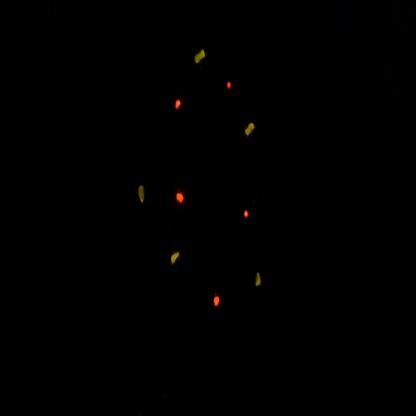PP: (246, 254, 272, 301), (162, 242, 187, 280), (239, 110, 262, 150), (191, 38, 212, 76), (135, 174, 150, 213)
PVC: (172, 177, 192, 216), (210, 279, 224, 323), (223, 70, 240, 104), (240, 196, 256, 232), (170, 91, 191, 118)
